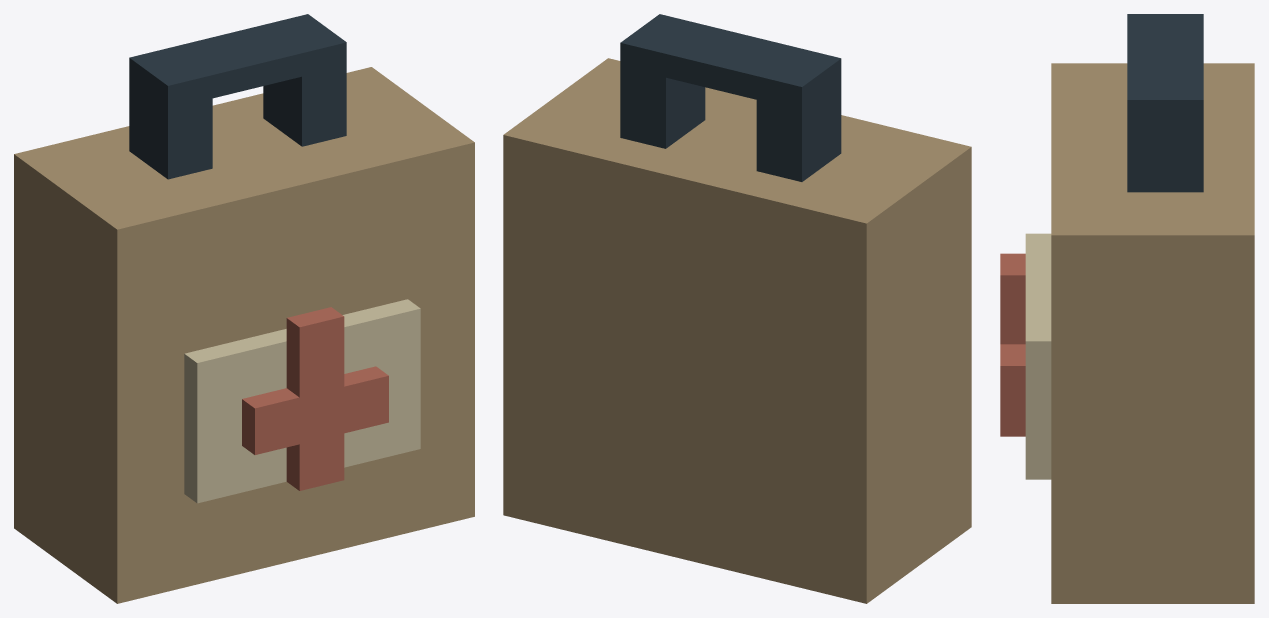
The model's file is pets-11.glb.
3 views of the same model, side by side, from view 1: azimuth 30°, elevation 25°; view 2: azimuth 150°, elevation 25°; view 3: azimuth 270°, elevation 25° (orthographic). The views are drawn at different scales.
Visible parts, largest first — view 1: Animal care kit; view 2: Animal care kit; view 3: Animal care kit.
Boxes of the visible parts, bbox=[...] form: Animal care kit: bbox=[14, 14, 474, 603]; Animal care kit: bbox=[503, 14, 971, 603]; Animal care kit: bbox=[1000, 14, 1254, 603].
Bounding box in the file's own units: 1.28 × 1.6 × 0.8.
